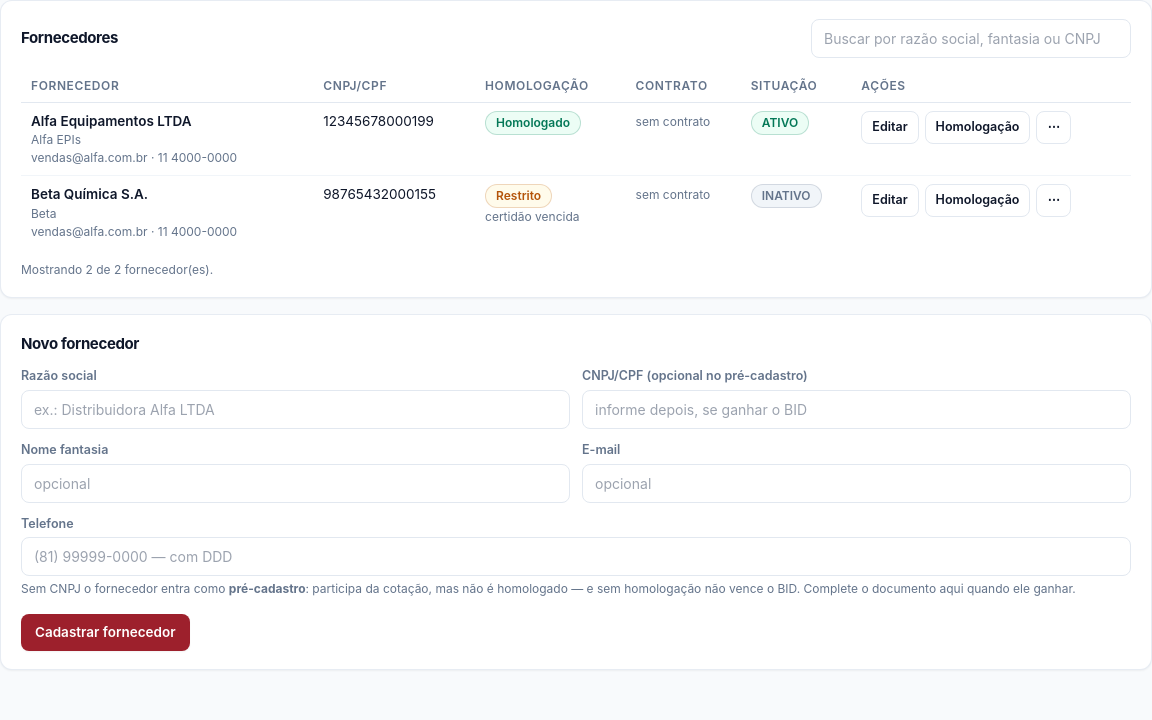
Test: <Fornecedores /> › a chave do portal só é gerada depois de confirmar, e aparece uma vez
Expected: the table with test id "tabela-fornecedores" is shown, [21,70,1131,248]
Click the button named "Mais ações de" at (1054, 127), box [1036,111,1071,144]
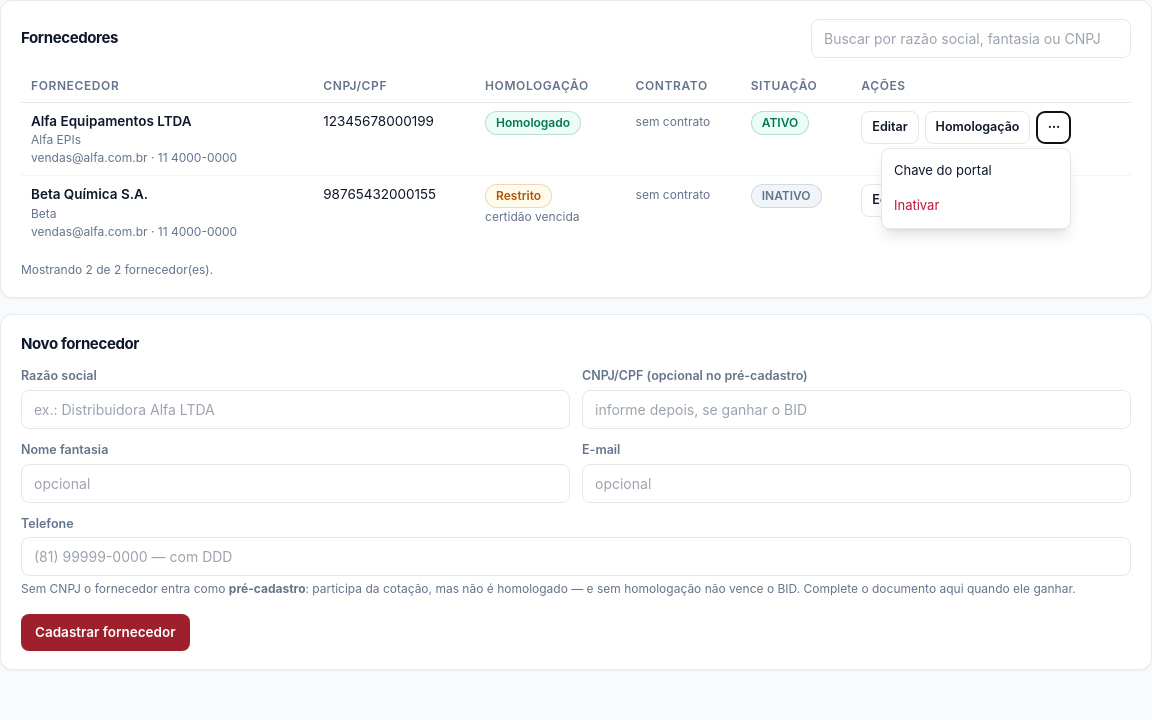
Click the menu item "Chave do portal" at (976, 171), box [882,153,1070,188]
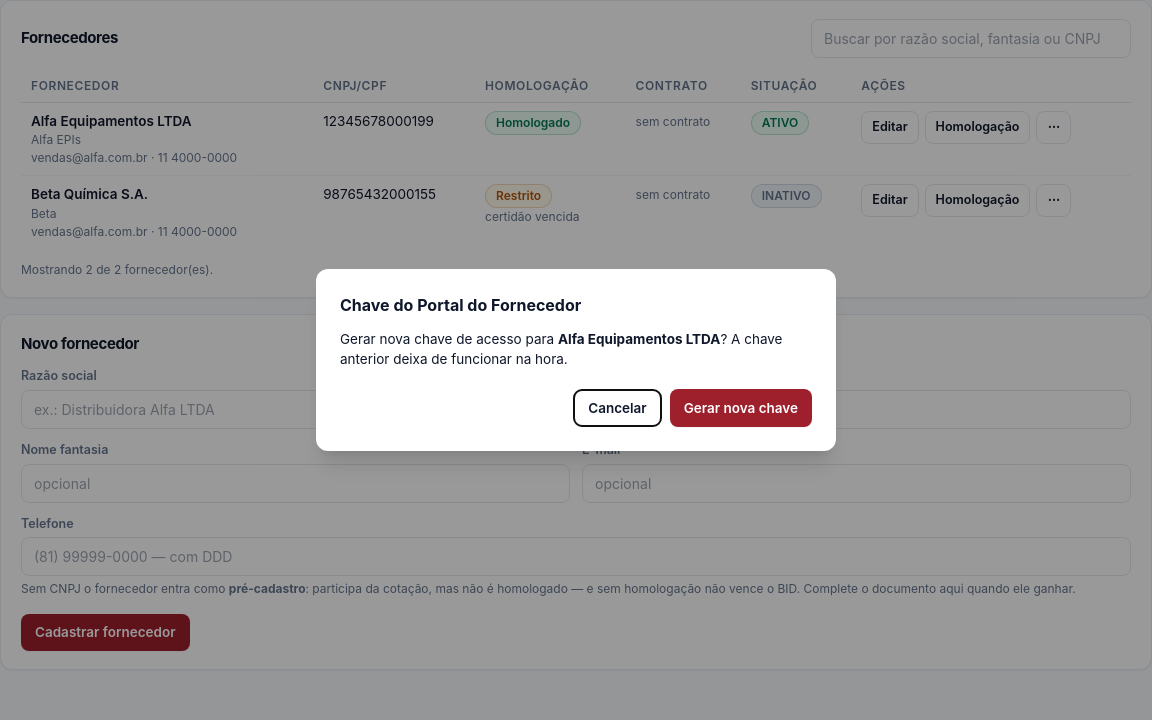
Click the button "Gerar nova chave" at (741, 408), box [670,389,812,427]
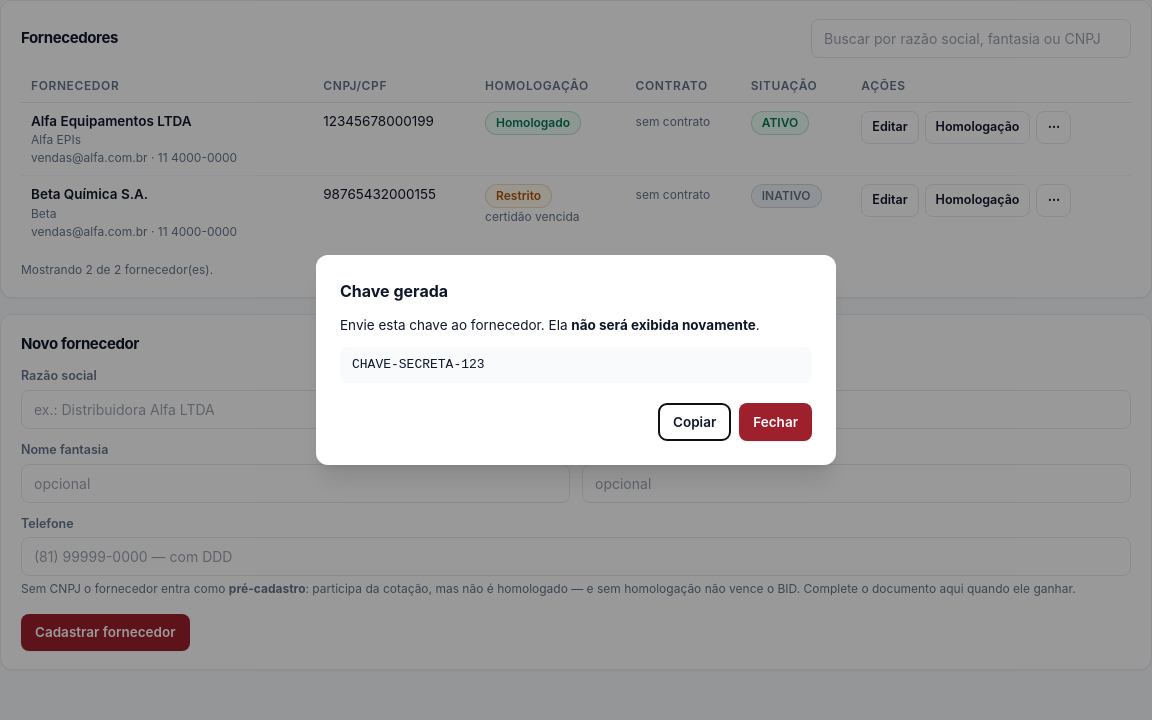
Now the text with test id "chave-portal" reads "CHAVE-SECRETA-123", box [352,357,485,372]
